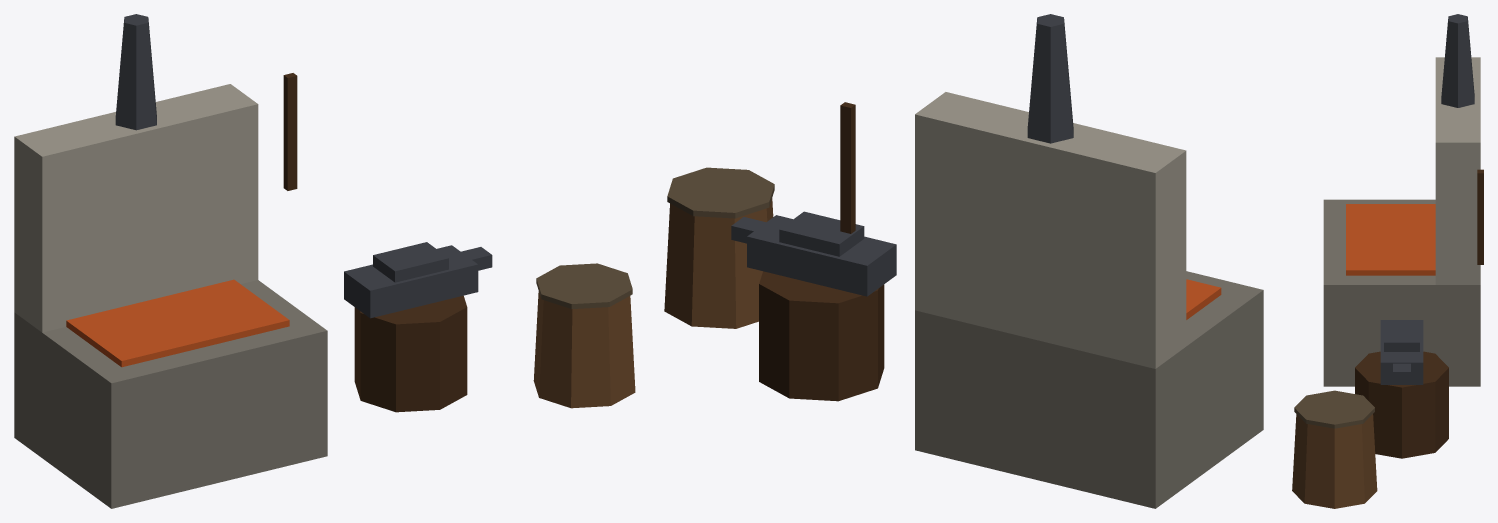
Rendered from anvil-forge.glb.
3 views of the same model, side by side, from view 1: azimuth 30°, elevation 25°; view 2: azimuth 150°, elevation 25°; view 3: azimuth 270°, elevation 25° (orthographic). The views are drawn at different scales.
Visible parts, largest first — view 1: anvil-forge; view 2: anvil-forge; view 3: anvil-forge.
Boxes of the visible parts, <box> form: anvil-forge: <box>14,14,635,508</box>; anvil-forge: <box>664,14,1263,508</box>; anvil-forge: <box>1292,14,1483,508</box>.
Size of the model in its own units: 4.38 by 3.2 by 1.71.
